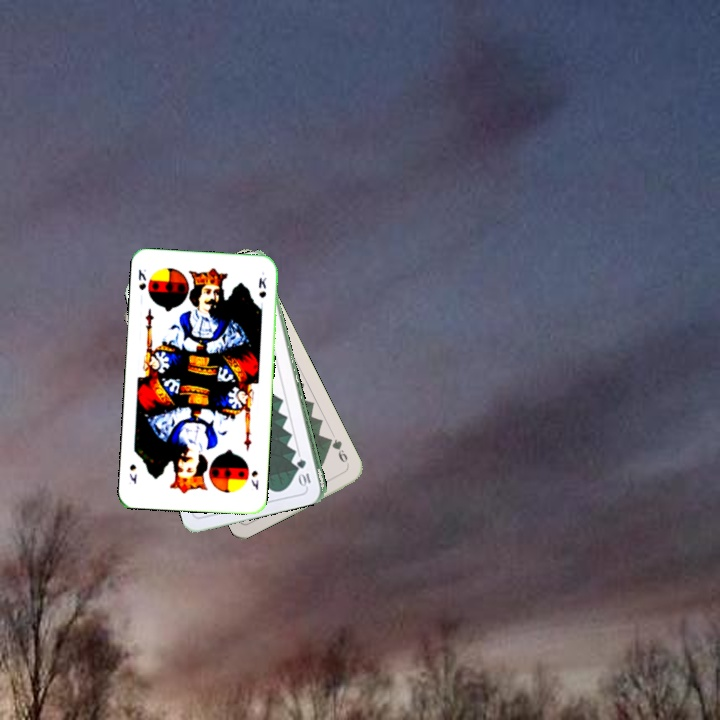G10: (295, 455, 313, 489)
G9: (324, 434, 352, 469)
SK: (134, 265, 149, 292), (247, 466, 261, 493)
